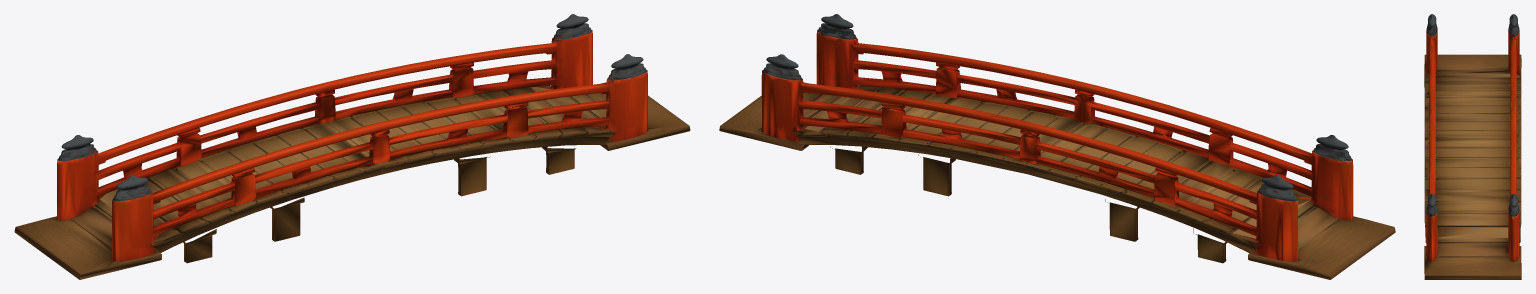
File: bridge_arched_taikobashi.glb
3 views of the same model, side by side, from view 1: azimuth 30°, elevation 25°; view 2: azimuth 150°, elevation 25°; view 3: azimuth 270°, elevation 25° (orthographic). The views are drawn at different scales.
Visible parts, largest first — view 1: node_0; view 2: node_0; view 3: node_0.
Part boxes in pixels (box(x1,y1,x2,y2)): node_0: box(14, 14, 690, 279); node_0: box(719, 14, 1395, 279); node_0: box(1424, 14, 1521, 279).
Size of the model in its own units: 13 by 2.05 by 2.4.
1 material, 1 textured.
